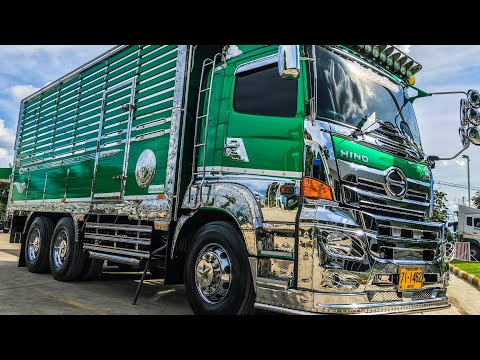truck: (72, 44, 452, 315)
